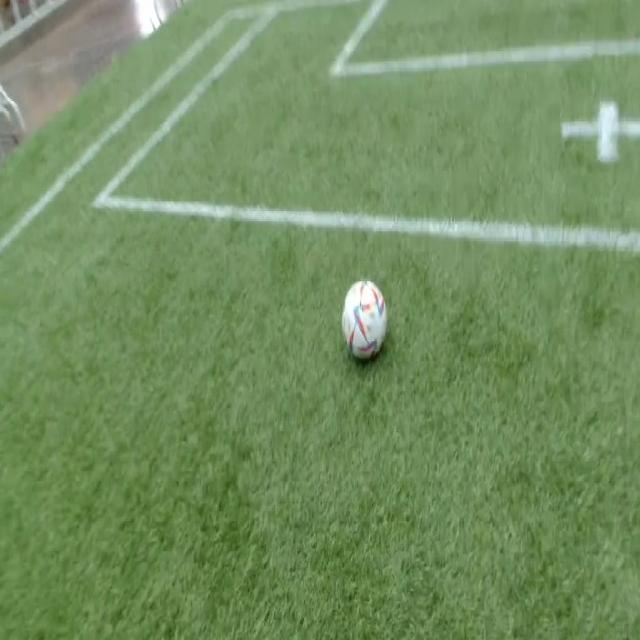ball: (342, 280, 387, 359)
